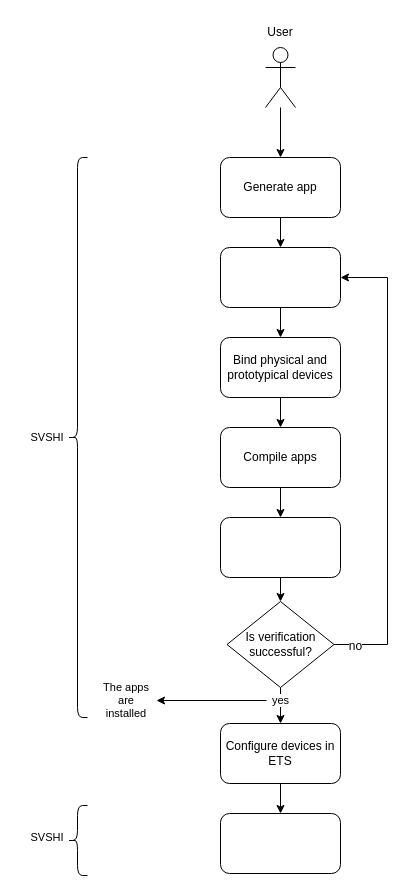
The diagram is 413 pixels wide and 893 high, and some of its shapes have lost their labels. The box of each missing label's shape, as (x1, y1, x2, y2) in pixels:
Develop app: (220, 246, 340, 308)
Run apps on KNX: (220, 812, 340, 874)
Verify apps: (220, 516, 340, 578)
